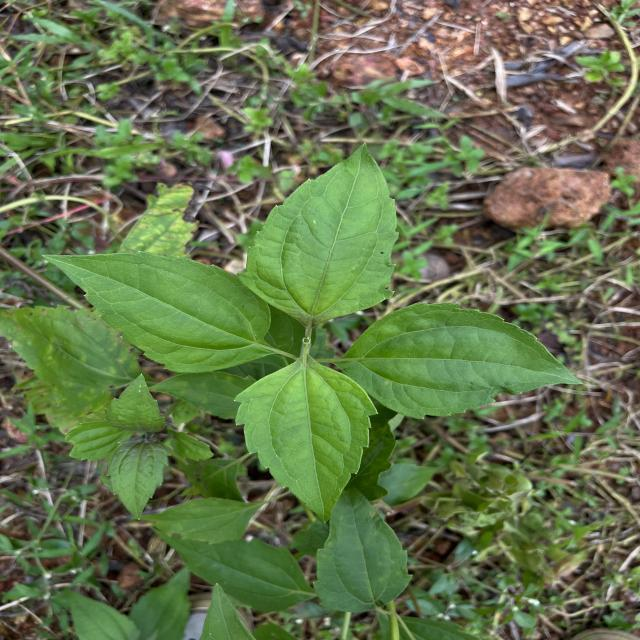Chromolaena odorata: (234, 138, 403, 328), (331, 298, 587, 422), (38, 247, 282, 375), (228, 352, 382, 525)
